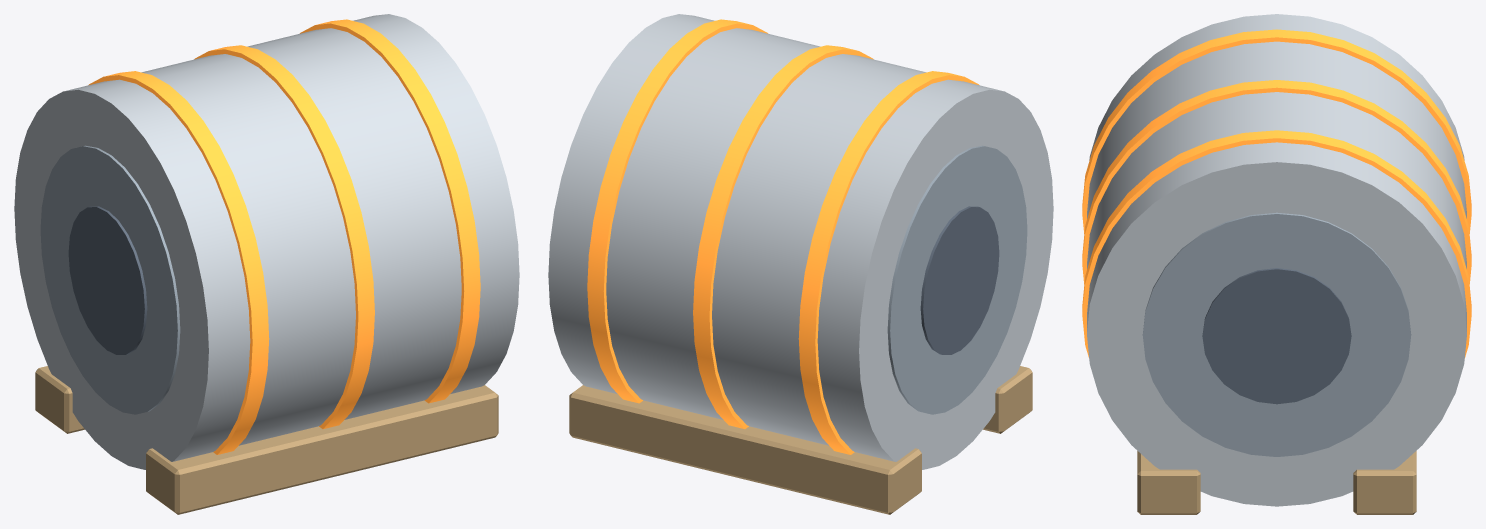
The model's file is steel-coil-v6-medium.glb.
The picture shows the model from 3 angles, left to right: view 1: azimuth 30°, elevation 25°; view 2: azimuth 150°, elevation 25°; view 3: azimuth 270°, elevation 25°; orthographic projection. The views are drawn at different scales.
Parts seen in each view (by area): view 1: steel-coil-v6-medium-v5_bright_steel, steel-coil-v6-medium-v5_crane_orange, steel-coil-v6-medium-v5_timber_dunnage, steel-coil-v6-medium-v5_rebar_bundle, steel-coil-v6-medium-v5_heavy_gunmetal; view 2: steel-coil-v6-medium-v5_bright_steel, steel-coil-v6-medium-v5_crane_orange, steel-coil-v6-medium-v5_timber_dunnage, steel-coil-v6-medium-v5_rebar_bundle, steel-coil-v6-medium-v5_heavy_gunmetal; view 3: steel-coil-v6-medium-v5_bright_steel, steel-coil-v6-medium-v5_rebar_bundle, steel-coil-v6-medium-v5_crane_orange, steel-coil-v6-medium-v5_heavy_gunmetal, steel-coil-v6-medium-v5_timber_dunnage.
Part boxes in pixels (x1=…): steel-coil-v6-medium-v5_bright_steel: x1=14, y1=14, x2=519, y2=469; steel-coil-v6-medium-v5_crane_orange: x1=88, y1=19, x2=480, y2=454; steel-coil-v6-medium-v5_timber_dunnage: x1=35, y1=366, x2=498, y2=514; steel-coil-v6-medium-v5_rebar_bundle: x1=40, y1=145, x2=180, y2=414; steel-coil-v6-medium-v5_heavy_gunmetal: x1=68, y1=206, x2=147, y2=354; steel-coil-v6-medium-v5_bright_steel: x1=548, y1=14, x2=1053, y2=469; steel-coil-v6-medium-v5_crane_orange: x1=587, y1=19, x2=979, y2=454; steel-coil-v6-medium-v5_timber_dunnage: x1=569, y1=366, x2=1032, y2=514; steel-coil-v6-medium-v5_rebar_bundle: x1=887, y1=145, x2=1027, y2=414; steel-coil-v6-medium-v5_heavy_gunmetal: x1=920, y1=206, x2=999, y2=354; steel-coil-v6-medium-v5_bright_steel: x1=1087, y1=14, x2=1466, y2=506; steel-coil-v6-medium-v5_rebar_bundle: x1=1142, y1=212, x2=1411, y2=456; steel-coil-v6-medium-v5_crane_orange: x1=1082, y1=29, x2=1471, y2=358; steel-coil-v6-medium-v5_heavy_gunmetal: x1=1202, y1=268, x2=1351, y2=404; steel-coil-v6-medium-v5_timber_dunnage: x1=1137, y1=451, x2=1416, y2=514.
Bounding box in the file's own units: 1.96 × 2.1 × 2.09.
